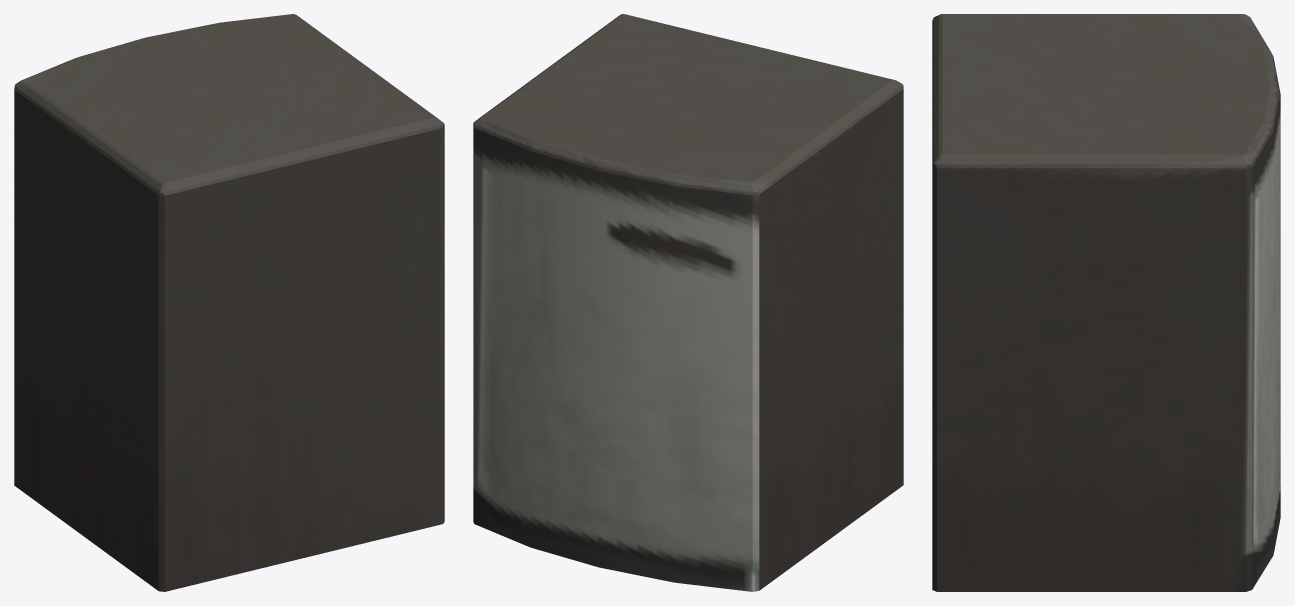
The model's file is W_MiniFridge.fbx.
The picture shows the model from 3 angles, left to right: view 1: azimuth 30°, elevation 25°; view 2: azimuth 150°, elevation 25°; view 3: azimuth 270°, elevation 25°; orthographic projection. The views are drawn at different scales.
Visible parts, largest first — view 1: Cube.001; view 2: Cube.001; view 3: Cube.001.
Part boxes in pixels (left/top/right/bottom): Cube.001: left=14, top=14, right=444, bottom=591; Cube.001: left=473, top=14, right=903, bottom=591; Cube.001: left=932, top=14, right=1280, bottom=591.
Size of the model in its own units: 0.3993 by 0.5398 by 0.3937.
